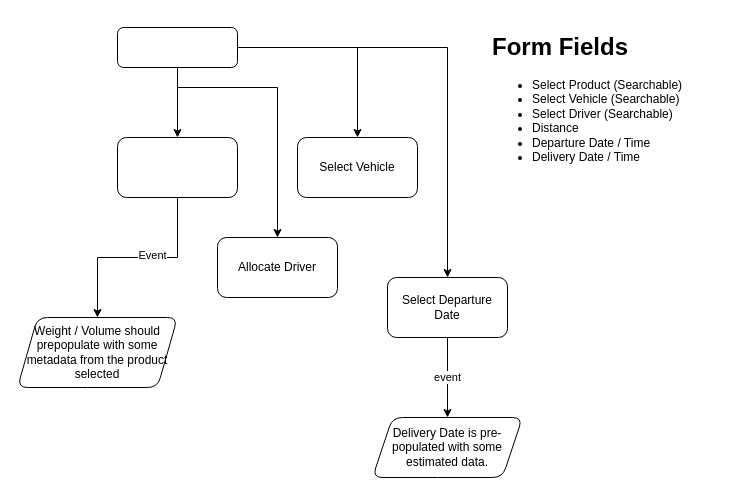
Some shapes in this 745 by 495 pixel diagram are drawn without their labels. The shapes that lost their labels are listed below. From the top down, each one's centre as x and y in pixels, then its label:
the point at 177,47: Display Form
the point at 177,167: Select Product
